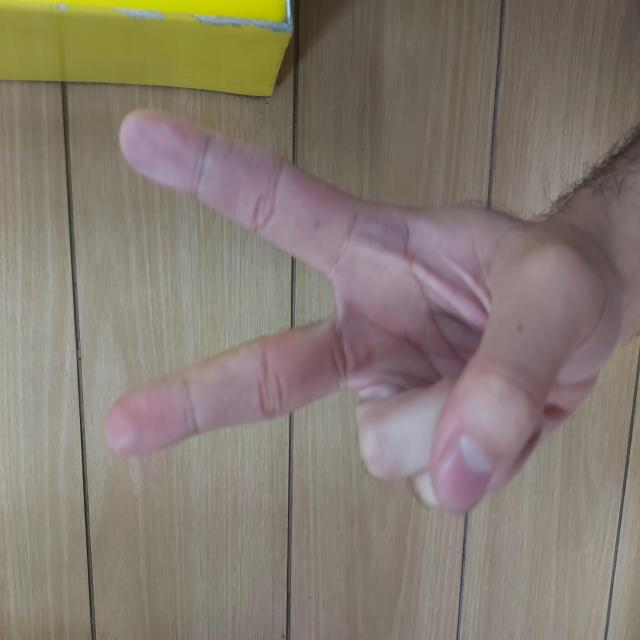V: (128, 104, 536, 618)
